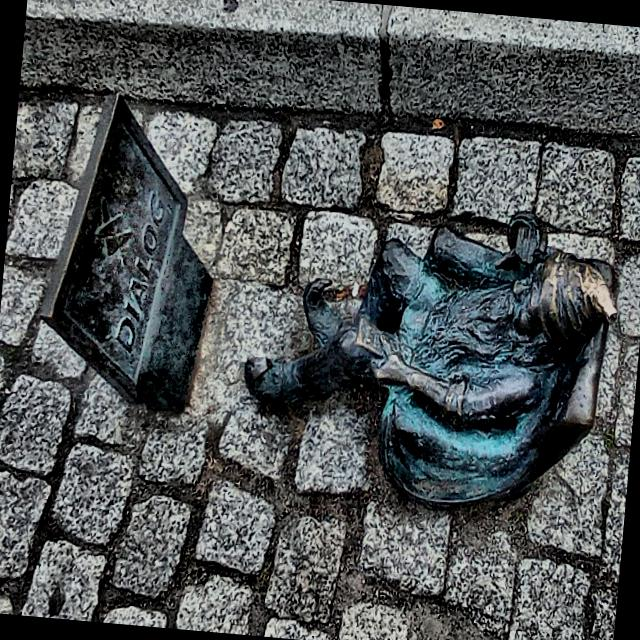Dialogomir: (241, 210, 616, 508), (37, 91, 212, 415)
